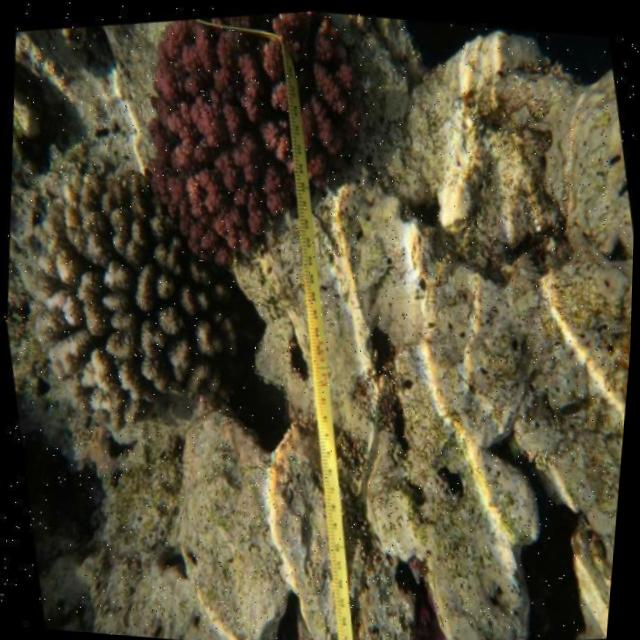Dead Coral: (1, 156, 251, 442)
Healthy Coral: (140, 15, 309, 267), (248, 7, 366, 188)
